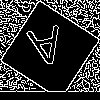A: (25, 25, 68, 77)
